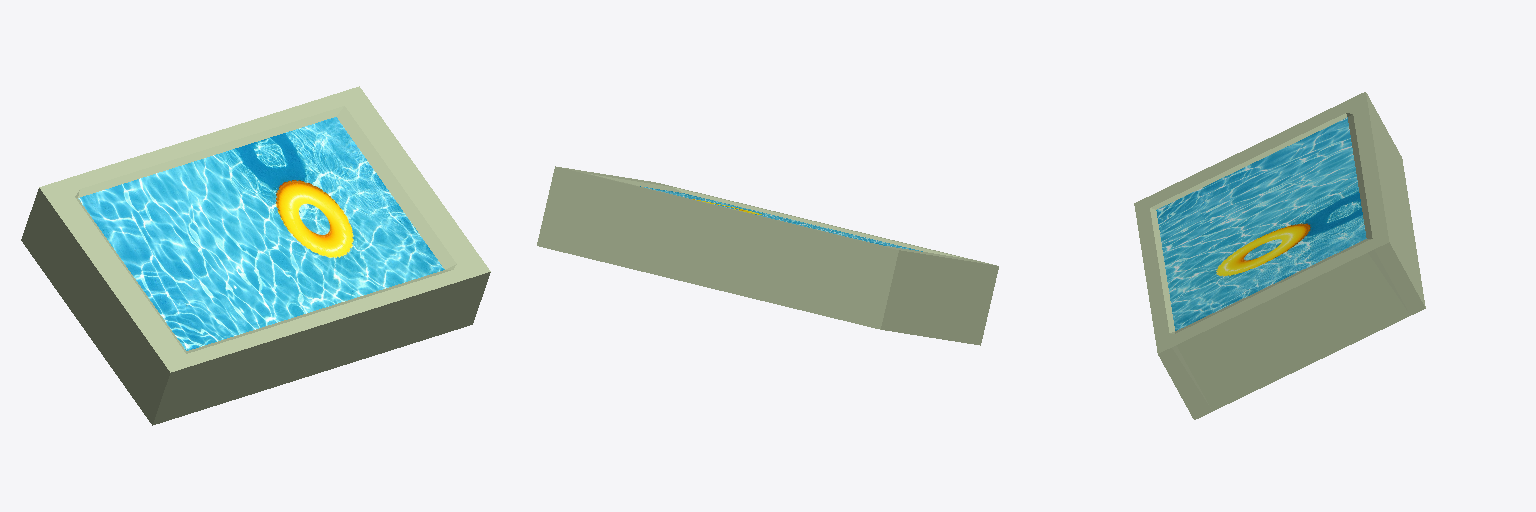
3 renders of one model, left to right at view 1: azimuth 30°, elevation 25°; view 2: azimuth 150°, elevation 25°; view 3: azimuth 270°, elevation 25°, orthographic.
Parts seen in each view (by area): view 1: Cube; view 2: Cube; view 3: Cube.
Boxes of the visible parts, <box> form: Cube: <box>21,86,490,425</box>; Cube: <box>537,166,998,345</box>; Cube: <box>1134,92,1425,419</box>.
Size of the model in its own units: 10.74 by 5.37 by 7.79.
2 materials, 1 textured.